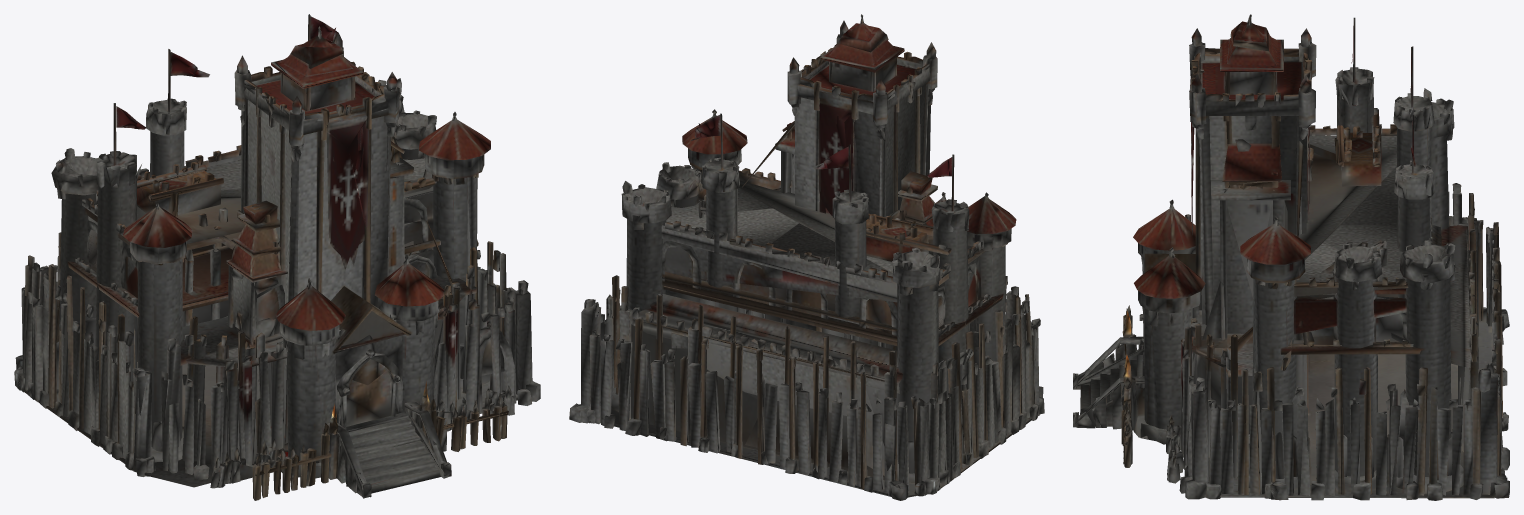
The model's file is Townhall tier3.glb.
3 renders of one model, left to right at view 1: azimuth 30°, elevation 25°; view 2: azimuth 150°, elevation 25°; view 3: azimuth 270°, elevation 25°, orthographic. The views are drawn at different scales.
Parts seen in each view (by area): view 1: Mesh_0.001; view 2: Mesh_0.001; view 3: Mesh_0.001.
Part boxes in pixels (x1=…): Mesh_0.001: x1=14, y1=14, x2=540, y2=500; Mesh_0.001: x1=569, y1=14, x2=1044, y2=500; Mesh_0.001: x1=1073, y1=14, x2=1509, y2=500.
Size of the model in its own units: 0.1804 by 0.18 by 0.1804.
1 material, 1 textured.
